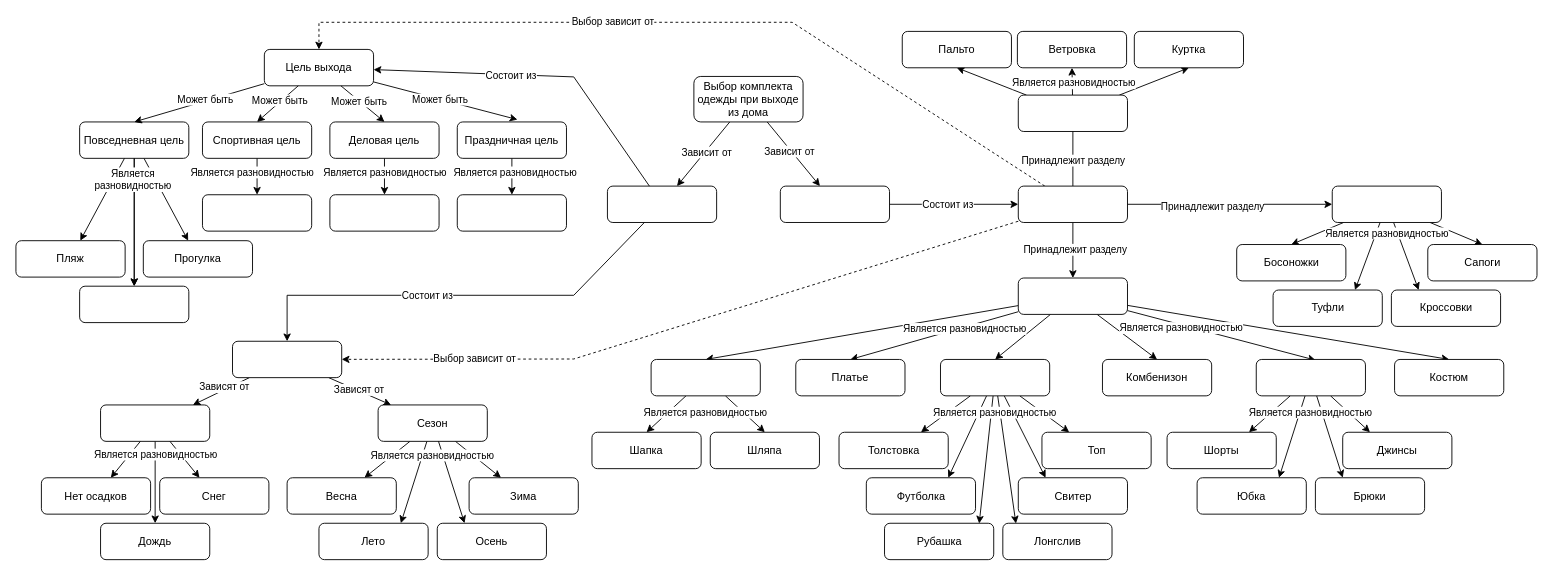
Image size: 1553x576. Some labels were removed from this diagram. Each missing label, with the centre of its shape:
Верх: [995,377]
Верхняя одежда: [1072,112]
Головные уборы: [705,377]
Комплект одежды: [834,203]
Контекст выбора: [662,203]
Лёгкая одежда: [1072,295]
Низ: [1310,377]
Обувь: [1386,203]
Осадки: [155,422]
Офис: [384,212]
Погодные условия: [287,359]
Работа: [134,304]
Ресторан: [511,212]
Тренировка в зале: [257,212]
Элемент одежды: [1072,203]
